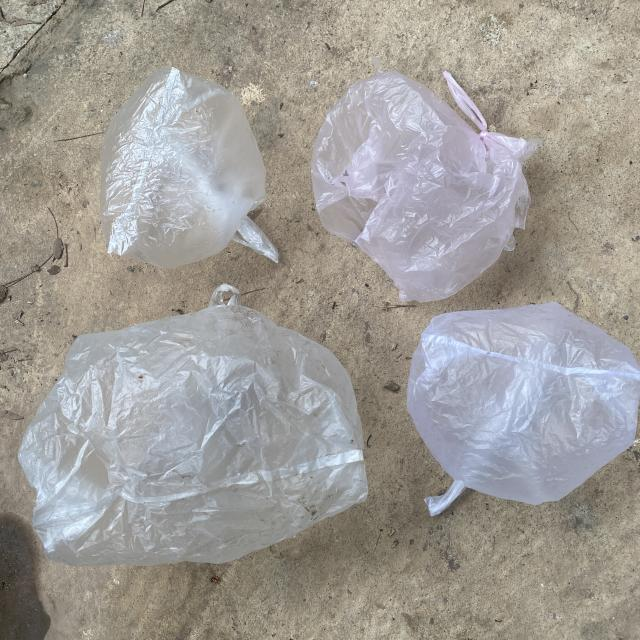Single-layer Plastic: (19, 285, 368, 566), (311, 70, 535, 302), (408, 302, 640, 516), (100, 68, 279, 268)
